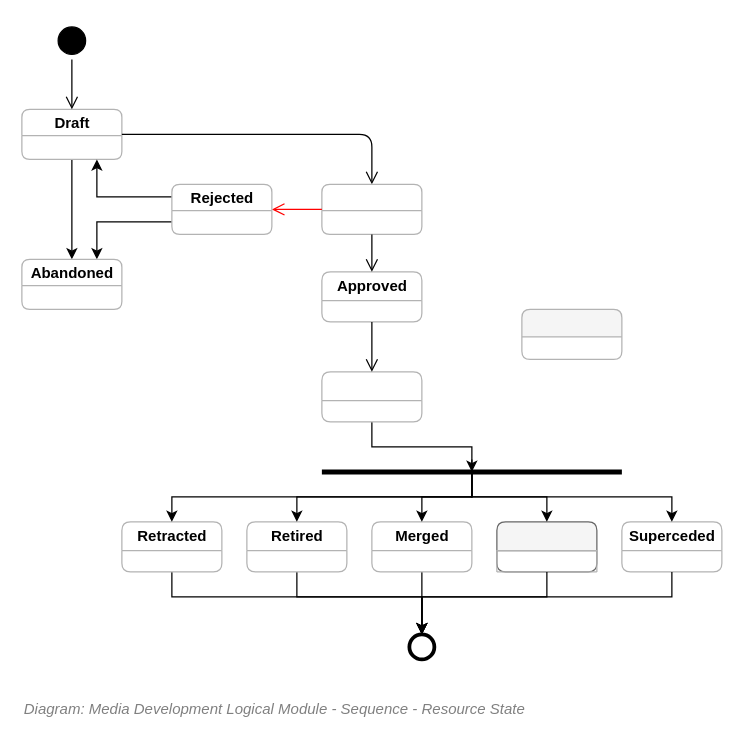
Some shapes in this 744 by 744 pixel diagram are drawn without their labels. Each missing label, with the box of its shape:
Endorsed: (521, 308, 622, 359)
For Review: (321, 183, 422, 234)
Released: (321, 371, 422, 422)
Replaced: (496, 521, 597, 572)
